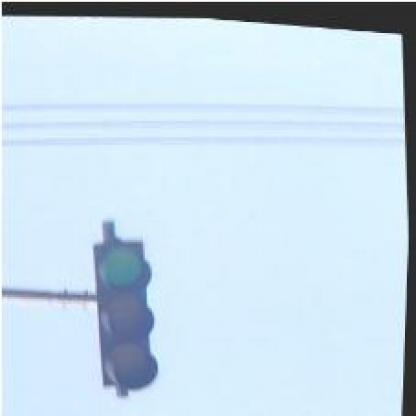green: (91, 232, 166, 391)
